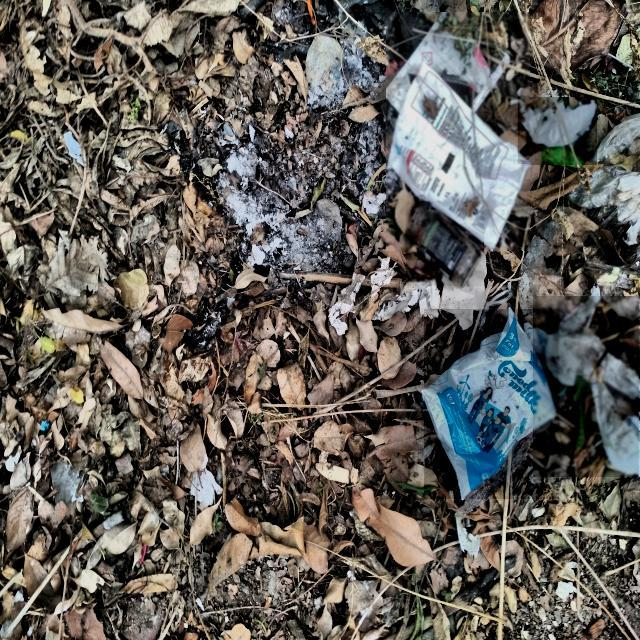anorganik: (386, 13, 530, 250), (424, 309, 559, 498), (534, 297, 640, 477), (407, 203, 484, 285)
organik: (518, 97, 597, 164)
